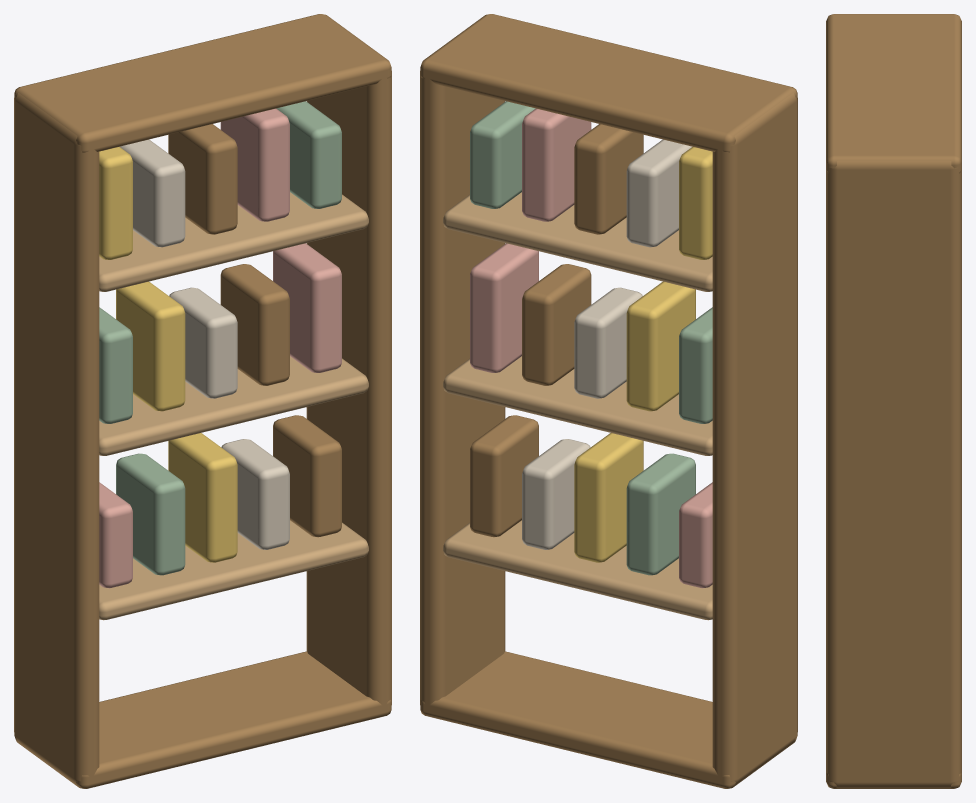
The model's file is shelf.glb.
The picture shows the model from 3 angles, left to right: view 1: azimuth 30°, elevation 25°; view 2: azimuth 150°, elevation 25°; view 3: azimuth 270°, elevation 25°; orthographic projection. The views are drawn at different scales.
Bounding box in the file's own units: 0.91 × 1.8 × 0.35.
